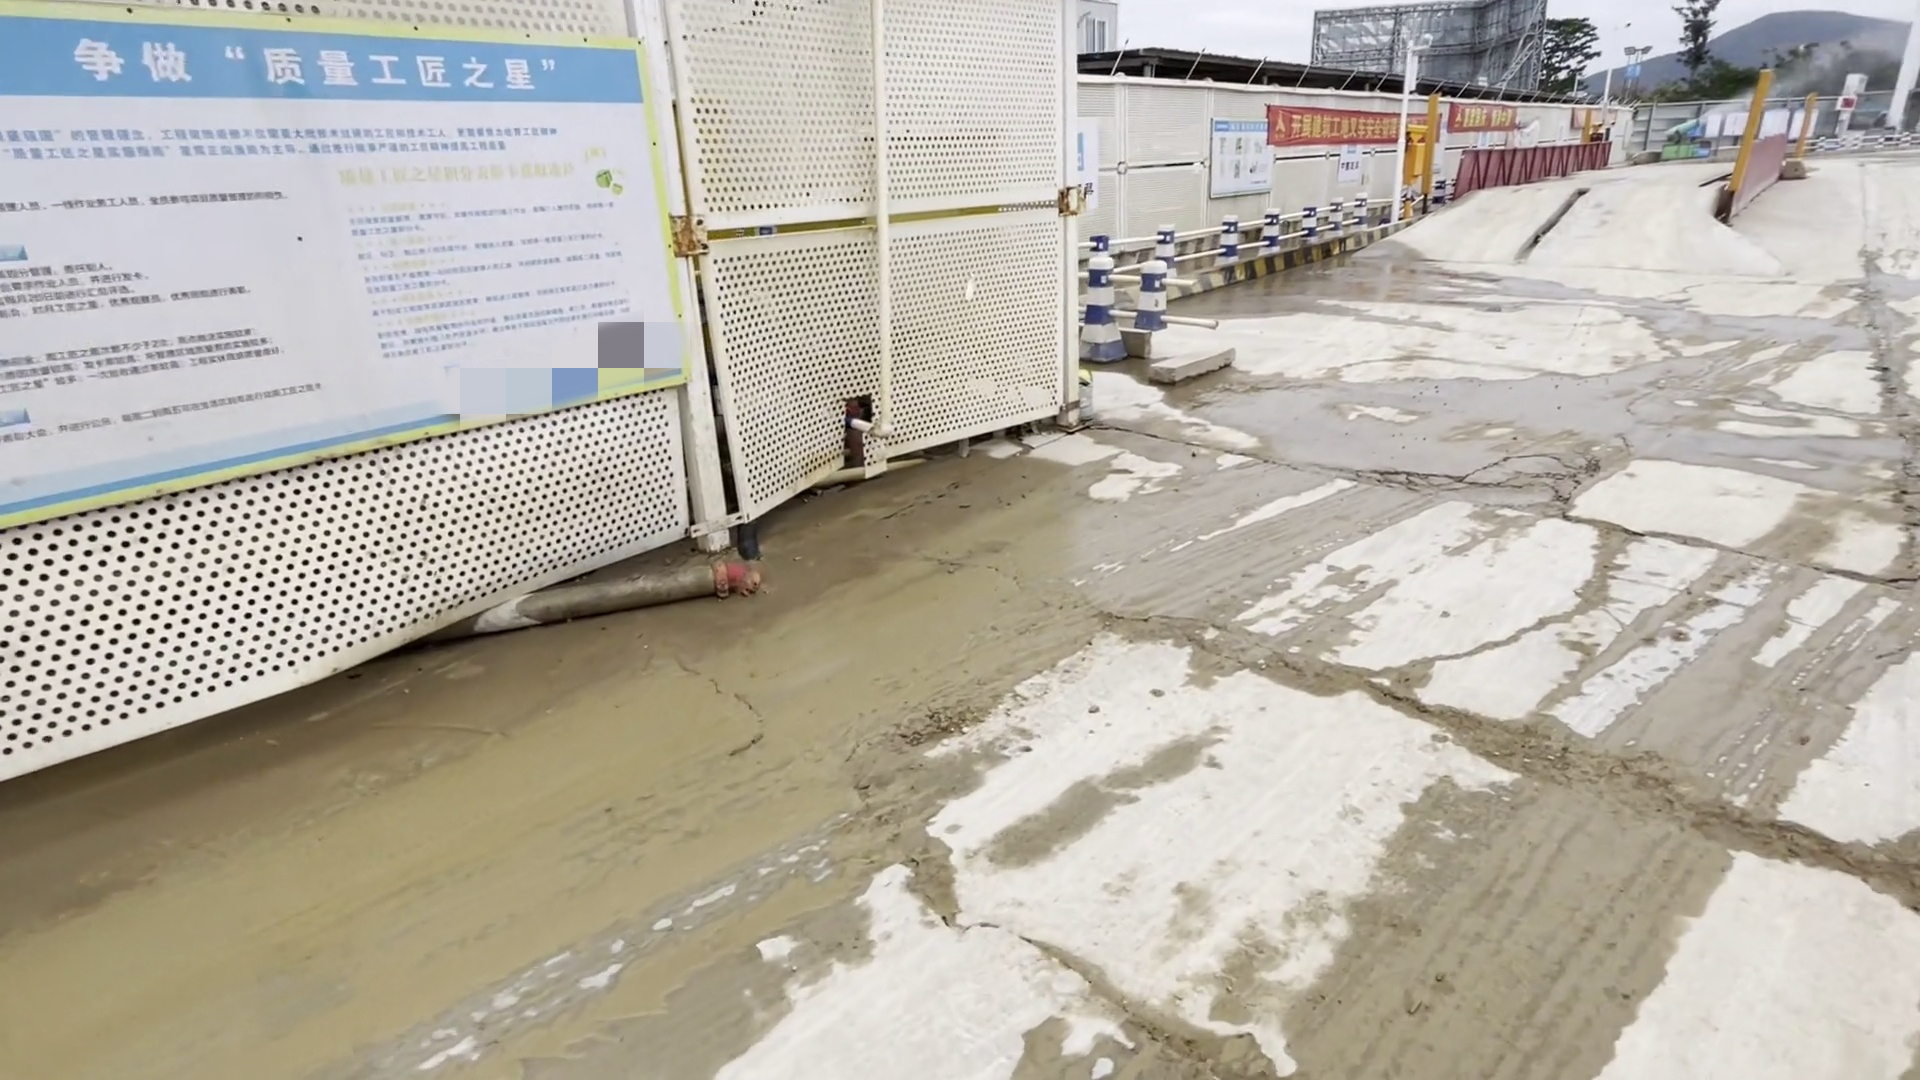slogan: (17, 7, 702, 527)
